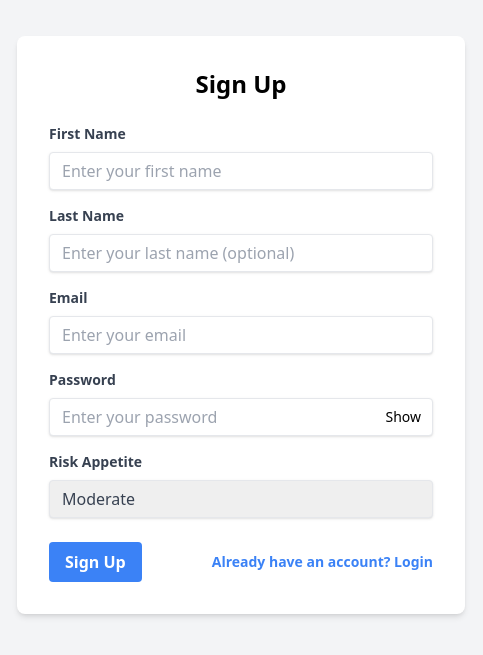
Test case: SignupPage › handles failed signup
The image size is (483, 655).
Type "Jane" into the field labelled "First Name".
click(241, 171); type("Jane")  # box [49, 152, 433, 190]
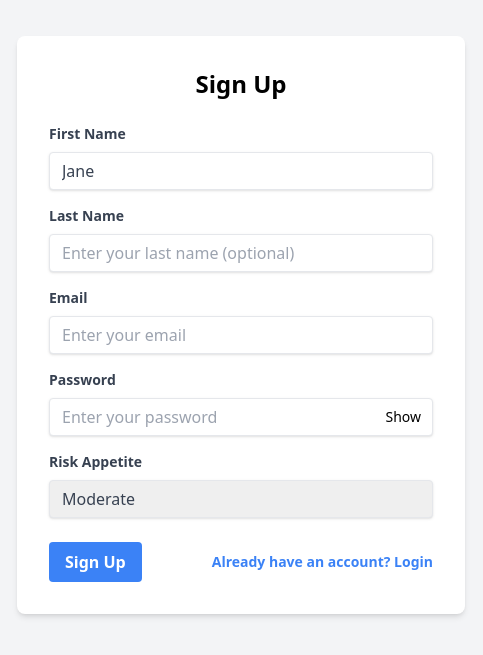
Type "jane@example.com" into the field labelled "Email".
click(241, 335); type("jane@example.com")  # box [49, 316, 433, 354]
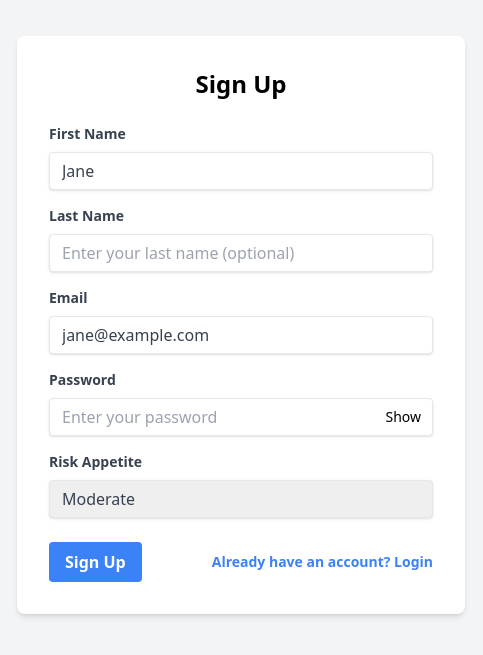
Type "securepassword" into the password field labelled "Password".
click(241, 417); type("securepassword")  # box [49, 398, 433, 436]
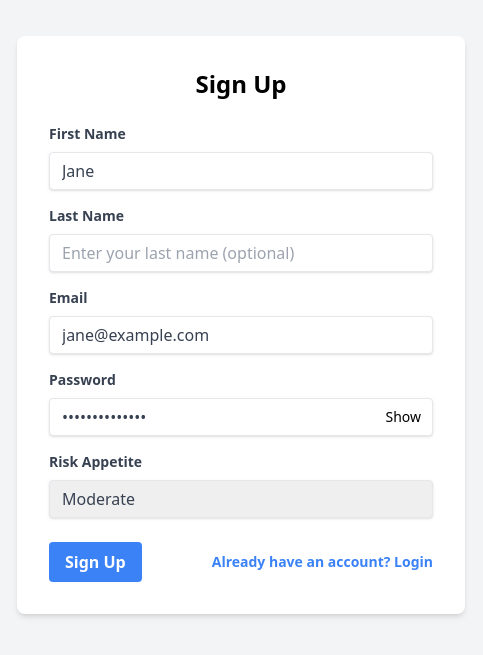
Click the button "Sign Up".
click(95, 562)  # box [49, 542, 142, 582]
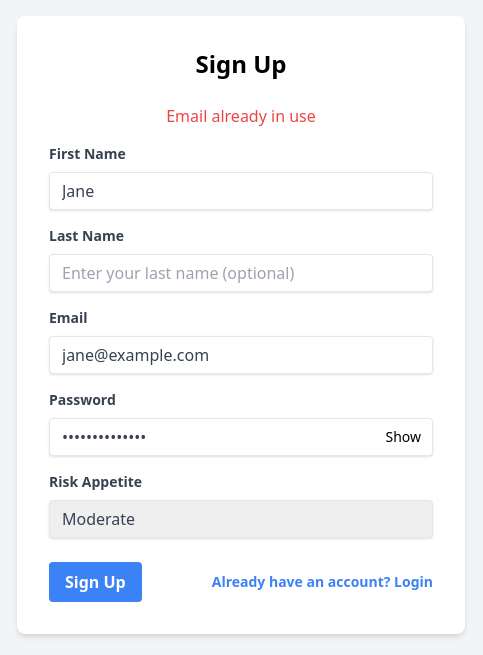
Expected: the text "Email already in use" is shown, [166, 105, 316, 127]
